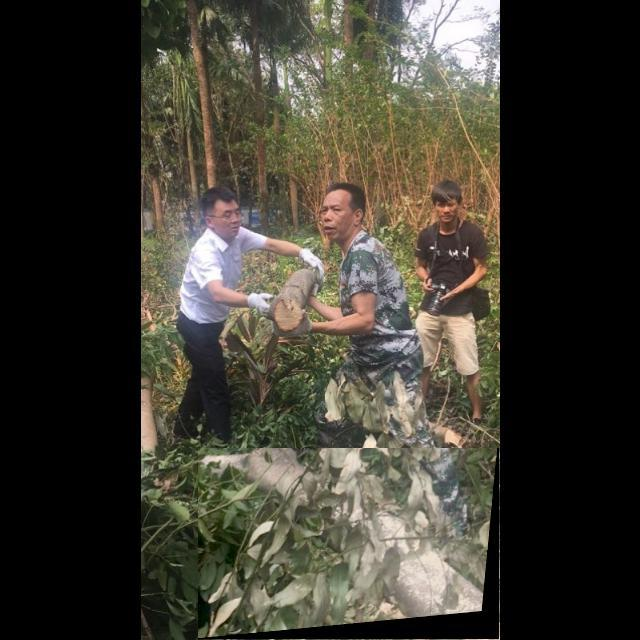fallen_tree: (198, 448, 500, 640)
